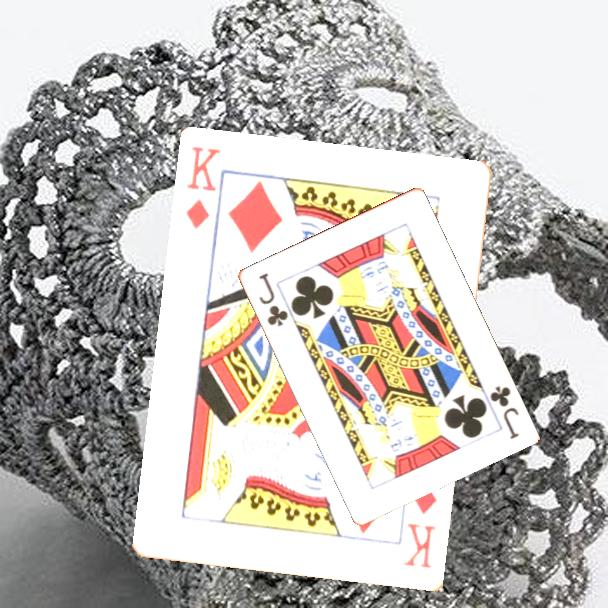c11: (255, 269, 291, 330), (486, 382, 522, 442)
d13: (182, 143, 224, 233), (401, 481, 440, 572)
